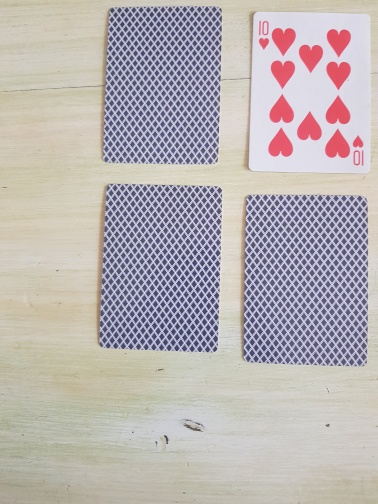ten: (246, 10, 372, 175)
